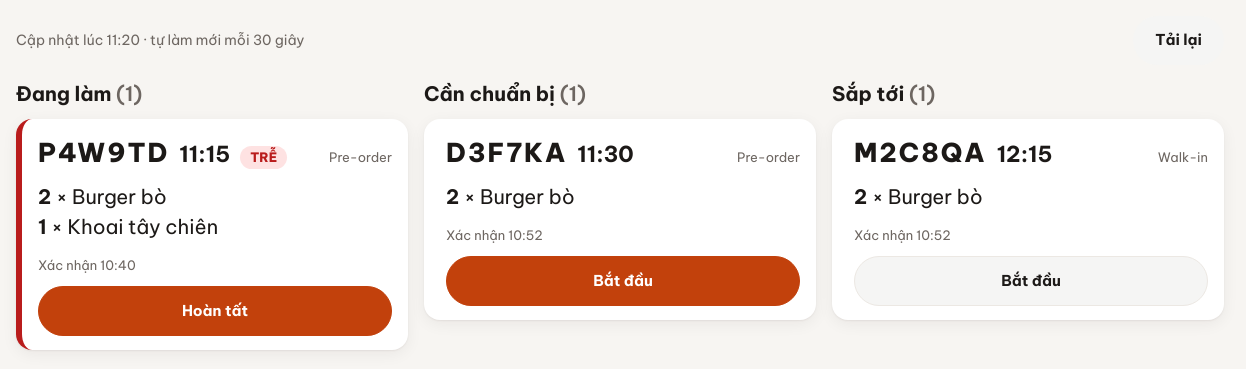
Test: KitchenPage (UC-12.1) › bấm Tải lại thì lấy dữ liệu mới
The image size is (1246, 369).
Expected: the text "D3F7KA" is shown, x1=446 y1=132 x2=567 y2=172
Click the button "Tải lại" at (1179, 40), box x1=1133 y1=16 x2=1224 y2=64
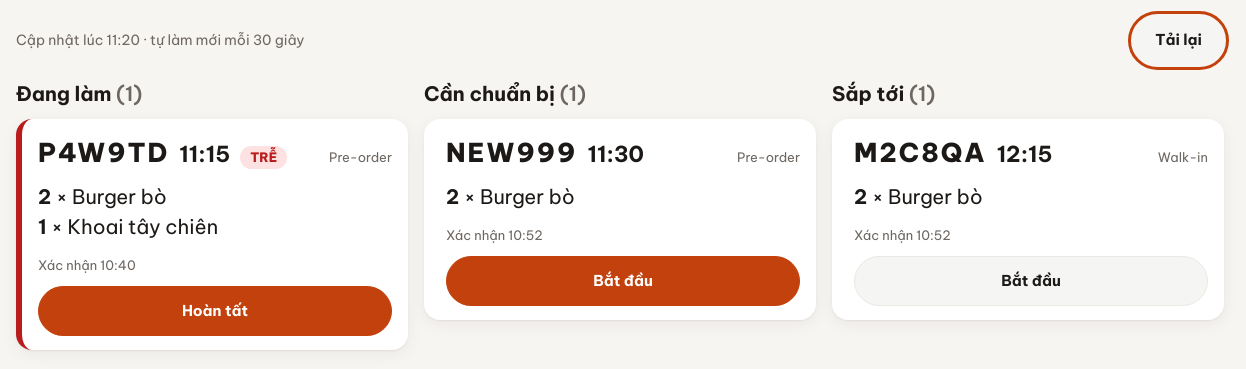
Result: the text "NEW999" is shown at x1=446 y1=132 x2=578 y2=172
Result: the text "D3F7KA" is gone
